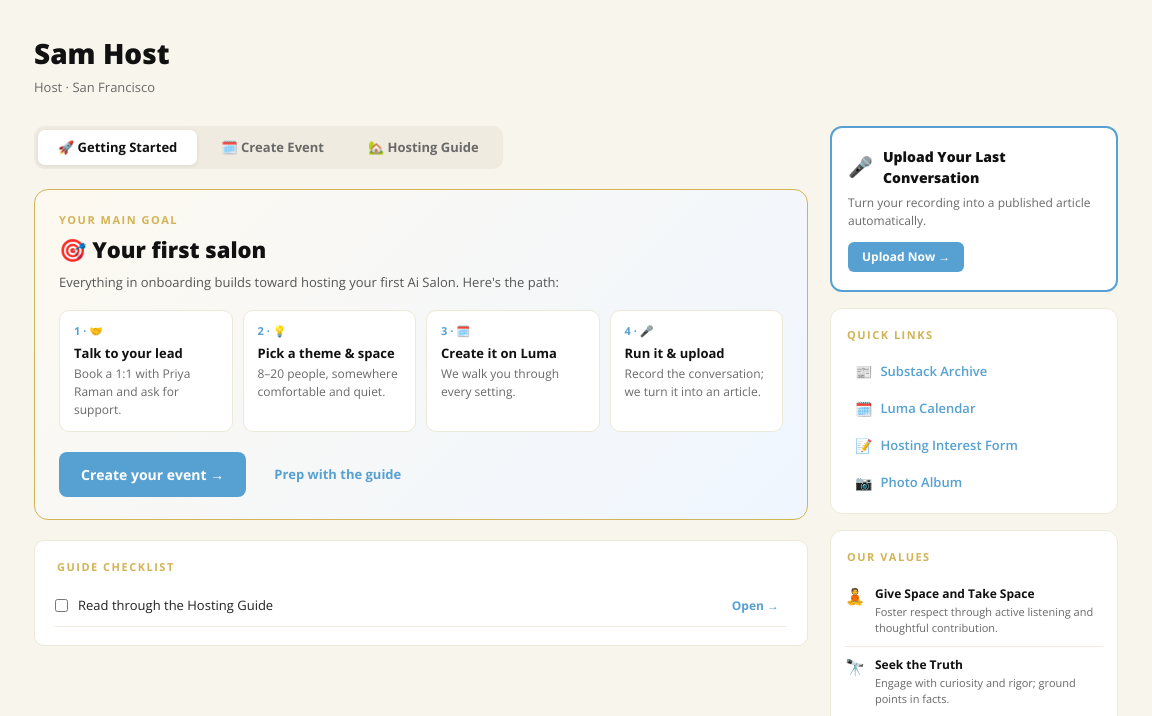
Test: WelcomeDashboard — host onboarding › shows saved checks as ticked
What coordinates should you click on to do the following:
click the button "🏡 Hosting Guide"
I would click on:
 (423, 147)
Its box is [348,130,499,165].
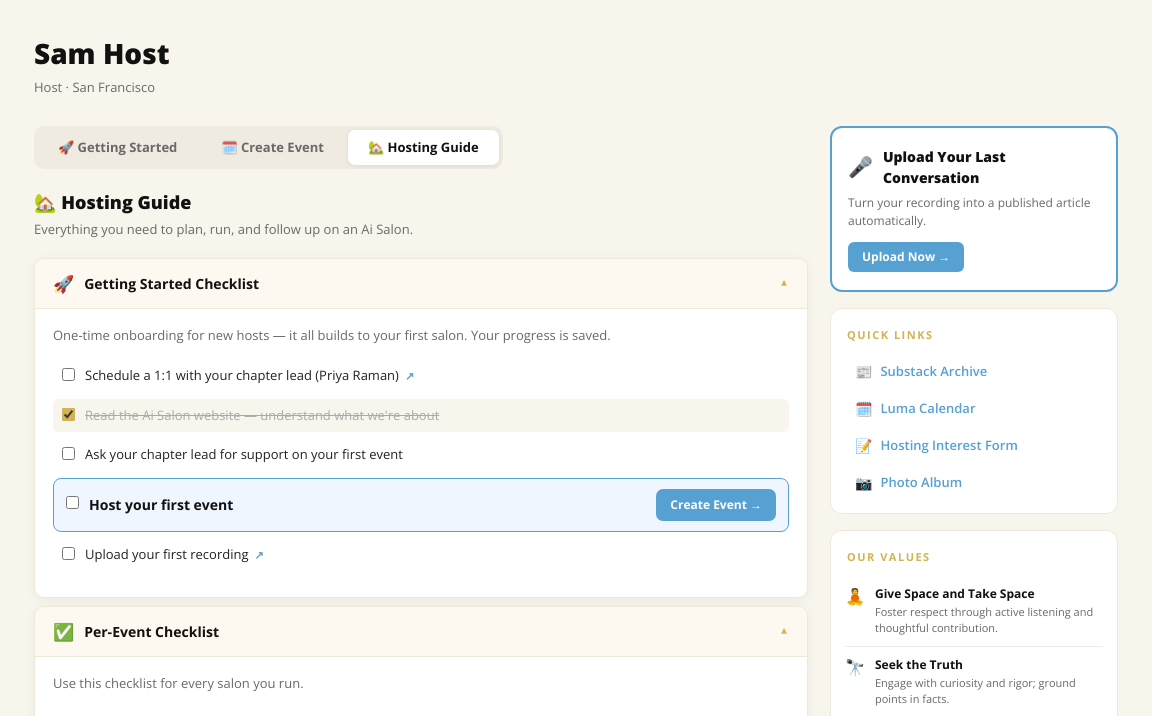
Expected: the checkbox labelled "Read the Ai Salon website — understand what we're about" is checked, [62,408,75,421]
